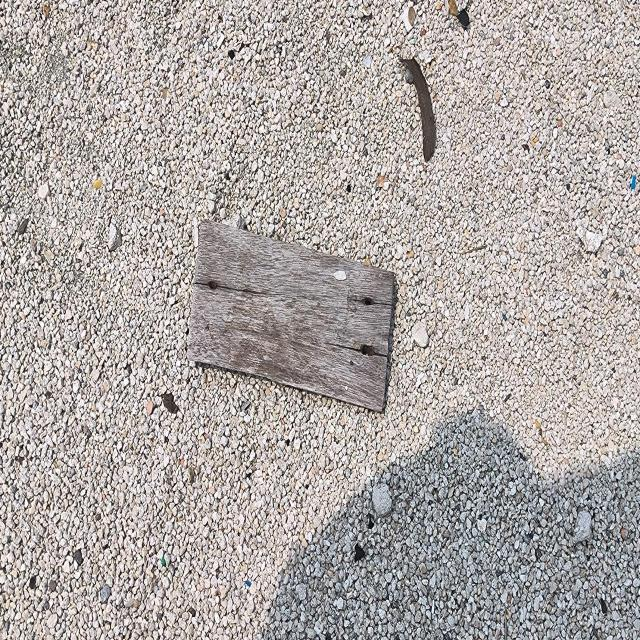litter: (186, 217, 396, 415)
